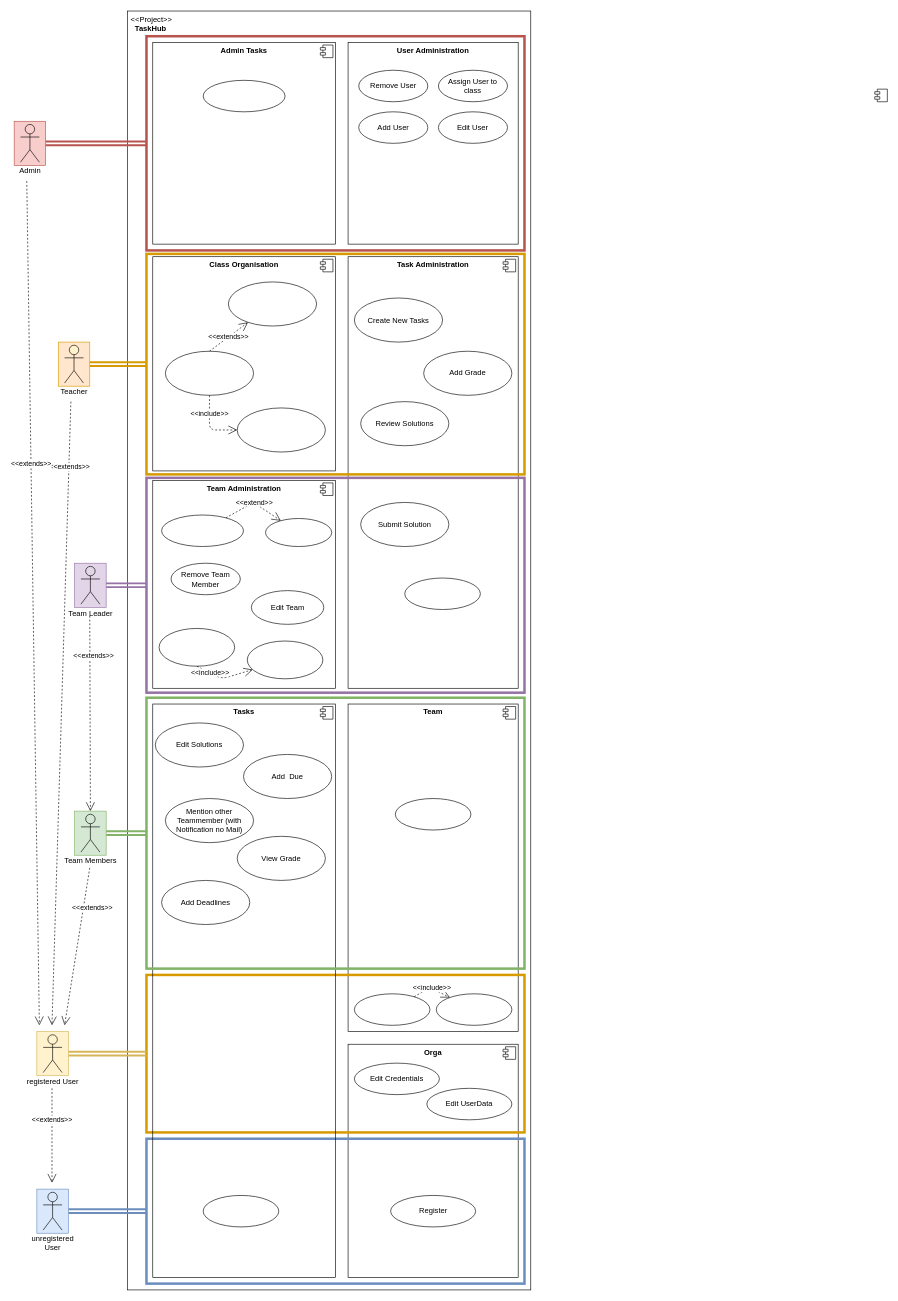
Some shapes in this 898 by 1301 pixel diagram are drawn without their labels. Here are the shapes that lost their labels. From the top down, the centre of each, then its label:
[244,96]: Create New Class f.e B4
[272,303]: Notify all Classmembers
[209,373]: Notify Single Team
[281,429]: Notify Single Student
[202,530]: Generate Invitation Links
[298,532]: Add Classmate to Team
[442,593]: Share Solution
[196,647]: Notify Full Team
[285,659]: Notify Member
[433,814]: Leave Team
[392,1009]: Create New Team
[474,1009]: Assign to Group Leader
[241,1211]: View Shared Solution
